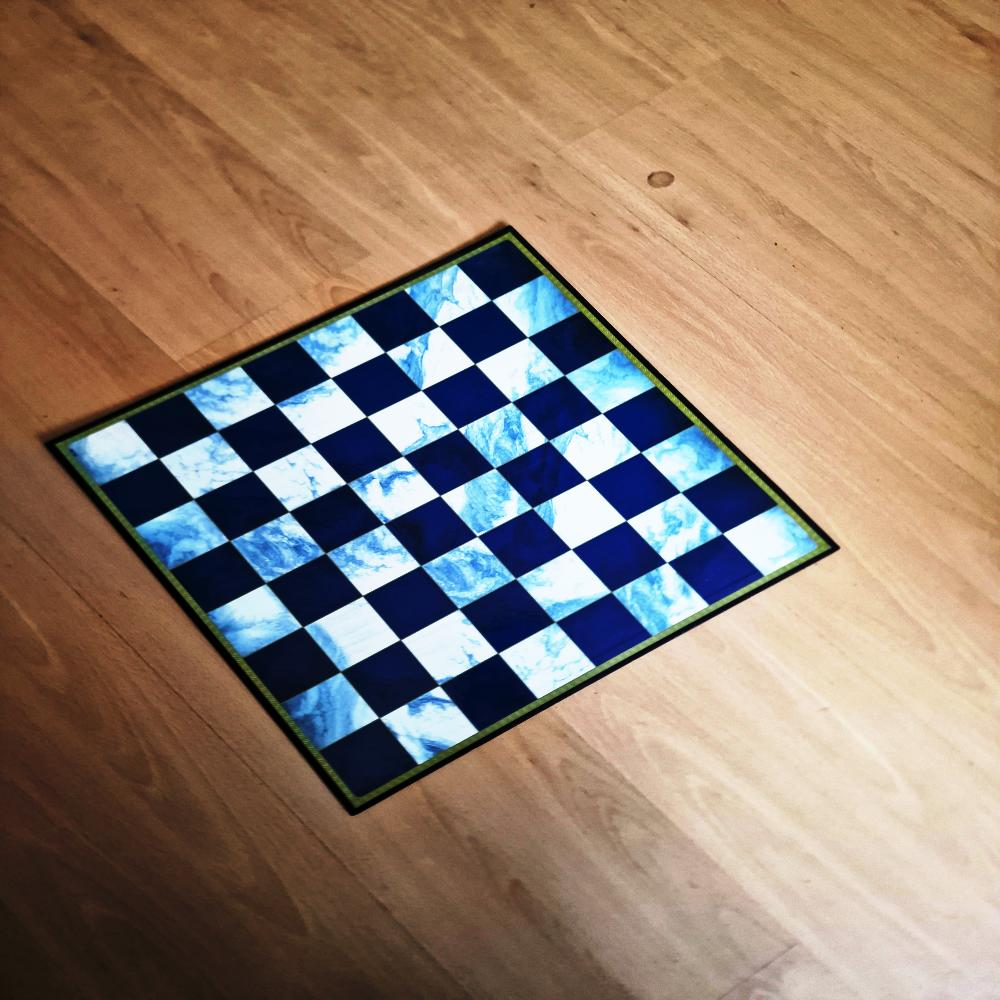chessfield: (378, 687, 486, 772), (723, 507, 834, 586), (498, 624, 604, 706), (610, 564, 716, 644), (276, 674, 380, 754), (321, 723, 420, 807), (45, 418, 160, 490), (438, 658, 538, 737), (400, 611, 501, 688), (200, 588, 302, 664), (556, 593, 654, 670), (301, 602, 401, 677), (340, 642, 438, 718), (326, 524, 425, 598), (135, 504, 234, 576), (231, 514, 330, 586), (517, 550, 613, 624), (667, 536, 764, 609), (418, 536, 515, 609), (625, 496, 725, 566), (266, 557, 363, 629), (250, 632, 343, 707), (363, 568, 457, 642), (459, 581, 553, 654), (638, 424, 736, 494), (170, 542, 264, 613), (182, 366, 276, 437), (440, 469, 536, 538), (251, 447, 348, 515), (530, 480, 624, 550), (159, 431, 254, 500), (192, 473, 286, 542), (346, 458, 441, 526), (571, 524, 664, 593), (479, 512, 572, 581), (550, 414, 642, 483), (101, 462, 194, 530), (364, 391, 458, 458), (456, 404, 550, 471), (682, 466, 774, 534), (126, 392, 217, 460), (291, 485, 382, 553), (299, 309, 386, 380), (385, 501, 477, 568), (587, 455, 678, 522), (473, 340, 564, 406), (219, 406, 310, 472), (277, 382, 368, 448), (498, 444, 588, 510), (403, 429, 493, 495), (388, 326, 478, 392), (399, 264, 492, 327), (566, 350, 656, 415), (311, 418, 400, 483), (240, 341, 329, 406), (605, 391, 694, 455), (456, 237, 542, 303), (493, 274, 583, 337), (421, 365, 509, 429), (512, 378, 602, 440), (332, 354, 420, 417), (351, 290, 437, 354), (441, 304, 528, 366), (528, 314, 615, 375)
